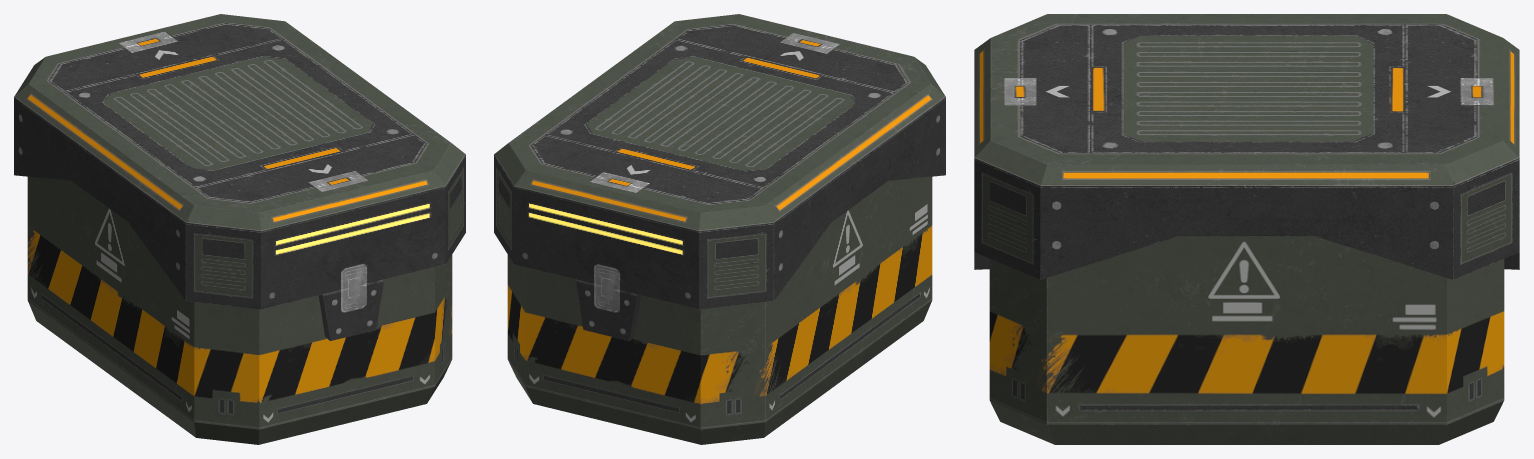
Rendered from ammobox.glb.
3 renders of one model, left to right at view 1: azimuth 30°, elevation 25°; view 2: azimuth 150°, elevation 25°; view 3: azimuth 270°, elevation 25°, orthographic. The views are drawn at different scales.
Visible parts, largest first — view 1: box; view 2: box; view 3: box.
Boxes of the visible parts, bbox=[...] form: box: bbox=[14, 14, 465, 444]; box: bbox=[494, 14, 945, 444]; box: bbox=[974, 14, 1519, 444].
Size of the model in its own units: 321 by 258 by 450.
Materials: 1 (1 with a texture image).
